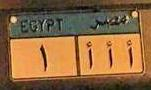1: (36, 43, 51, 73)
alif: (103, 39, 115, 69), (83, 41, 96, 68), (124, 38, 135, 69)
